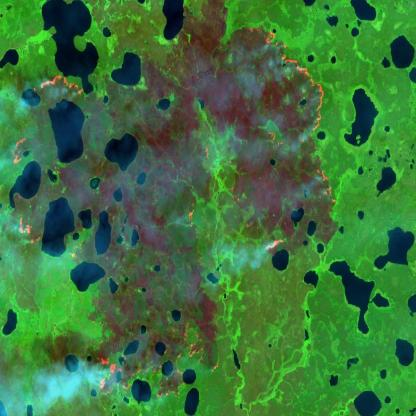fire: (245, 17, 338, 257), (13, 64, 87, 261), (81, 309, 223, 405), (186, 136, 210, 228)
